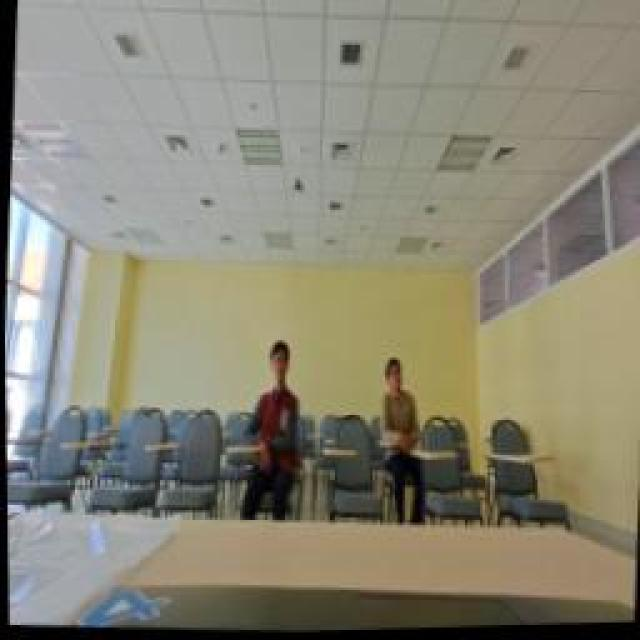study: (242, 332, 302, 452), (373, 352, 425, 450)
